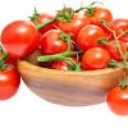tomato: (3, 18, 40, 59), (74, 24, 110, 51), (41, 29, 72, 54)
